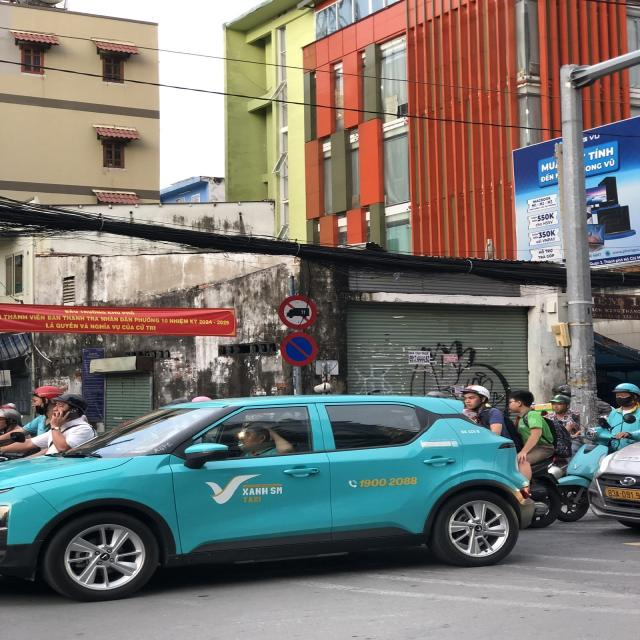Bien bao cam do xe: (277, 293, 316, 331), (278, 331, 318, 366)
